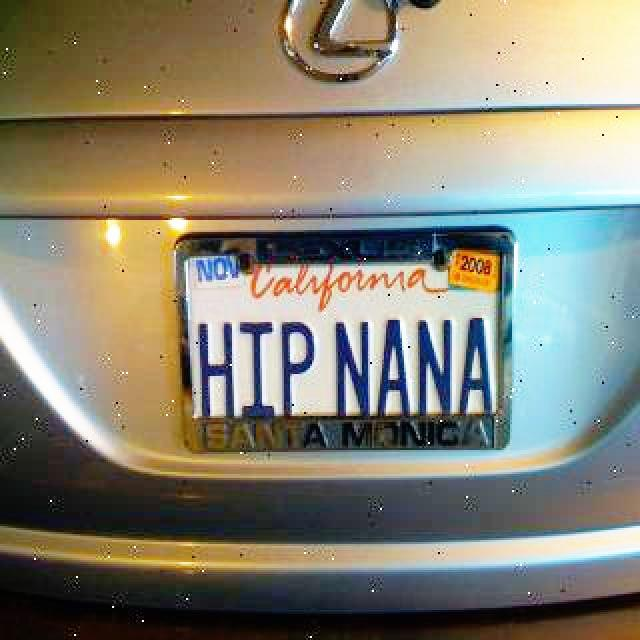license_plate: (165, 217, 530, 476)
